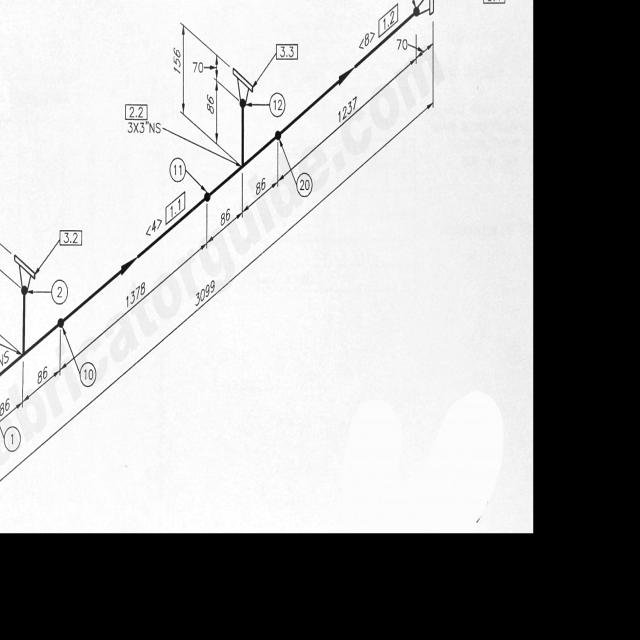Item number: (377, 0, 400, 39), (165, 187, 187, 226), (123, 102, 148, 122), (275, 42, 299, 62), (59, 228, 83, 248), (1, 346, 10, 368), (481, 1, 507, 6)
Measrement: (61, 228, 206, 377), (277, 43, 418, 188), (24, 353, 62, 408), (241, 163, 278, 218), (169, 19, 187, 117), (206, 198, 241, 248), (204, 71, 223, 149), (396, 33, 436, 60), (191, 57, 219, 79)
Pipeline: (0, 10, 410, 386)
Symbol: (178, 59, 283, 245), (0, 245, 39, 436), (230, 63, 258, 113), (12, 252, 37, 297), (119, 251, 140, 280), (411, 0, 435, 19)
Weld number: (51, 277, 70, 307), (268, 88, 286, 119), (3, 424, 22, 453), (168, 155, 187, 183), (296, 171, 314, 199), (79, 361, 97, 388)
